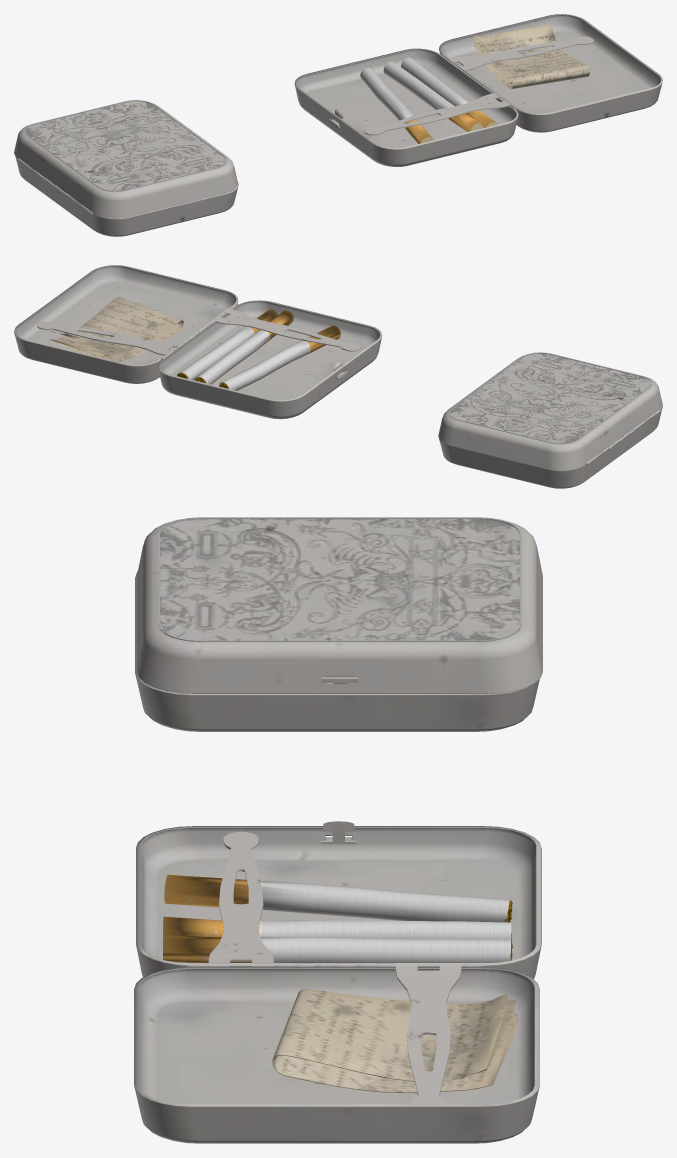
The model's file is cigarette_case.glb.
3 views of the same model, one above another, from view 1: azimuth 30°, elevation 25°; view 2: azimuth 150°, elevation 25°; view 3: azimuth 270°, elevation 25° (orthographic). The views are drawn at different scales.
Parts seen in each view (by area): view 1: cigarette_case_cover_b; view 2: cigarette_case_cover_b; view 3: cigarette_case_cover_b.
Part boxes in pixels (x1=…): cigarette_case_cover_b: x1=14, y1=14, x2=662, y2=236; cigarette_case_cover_b: x1=14, y1=265, x2=662, y2=488; cigarette_case_cover_b: x1=134, y1=517, x2=542, y2=1143.
Size of the model in its own units: 0.3233 by 0.0245 by 0.1007.
1 material, 1 textured.
